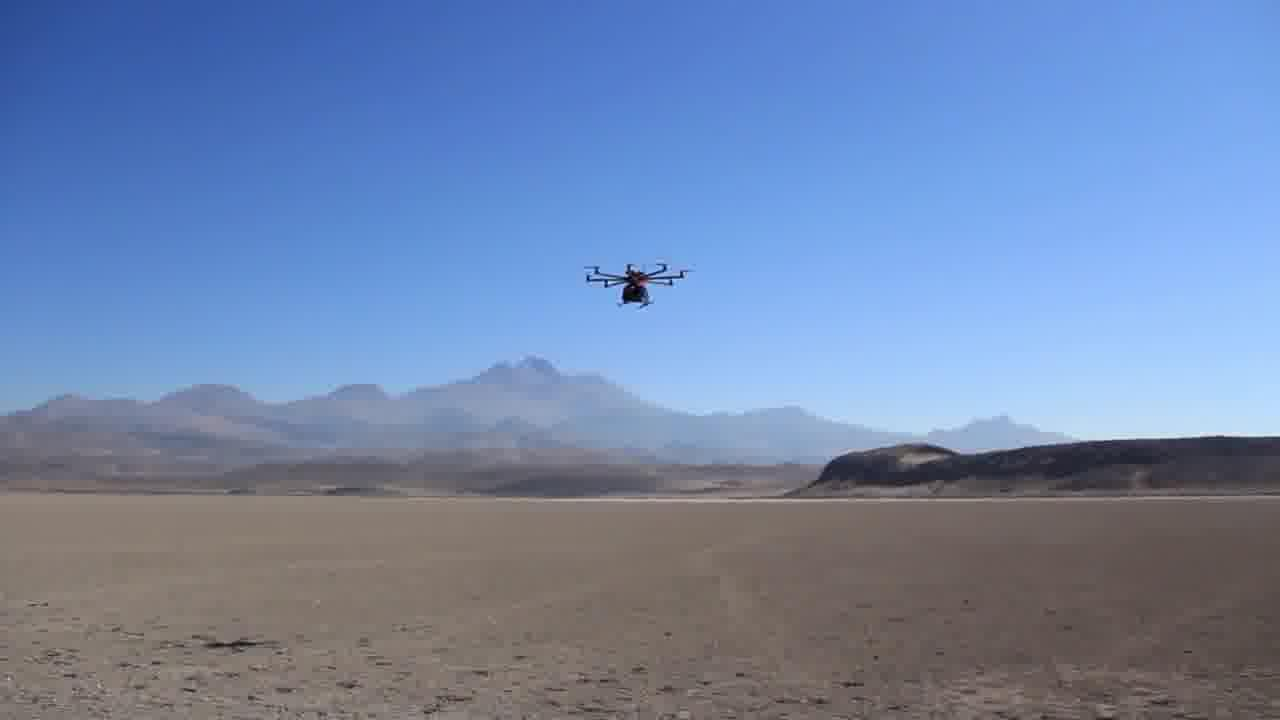drone: (575, 245, 700, 316)
